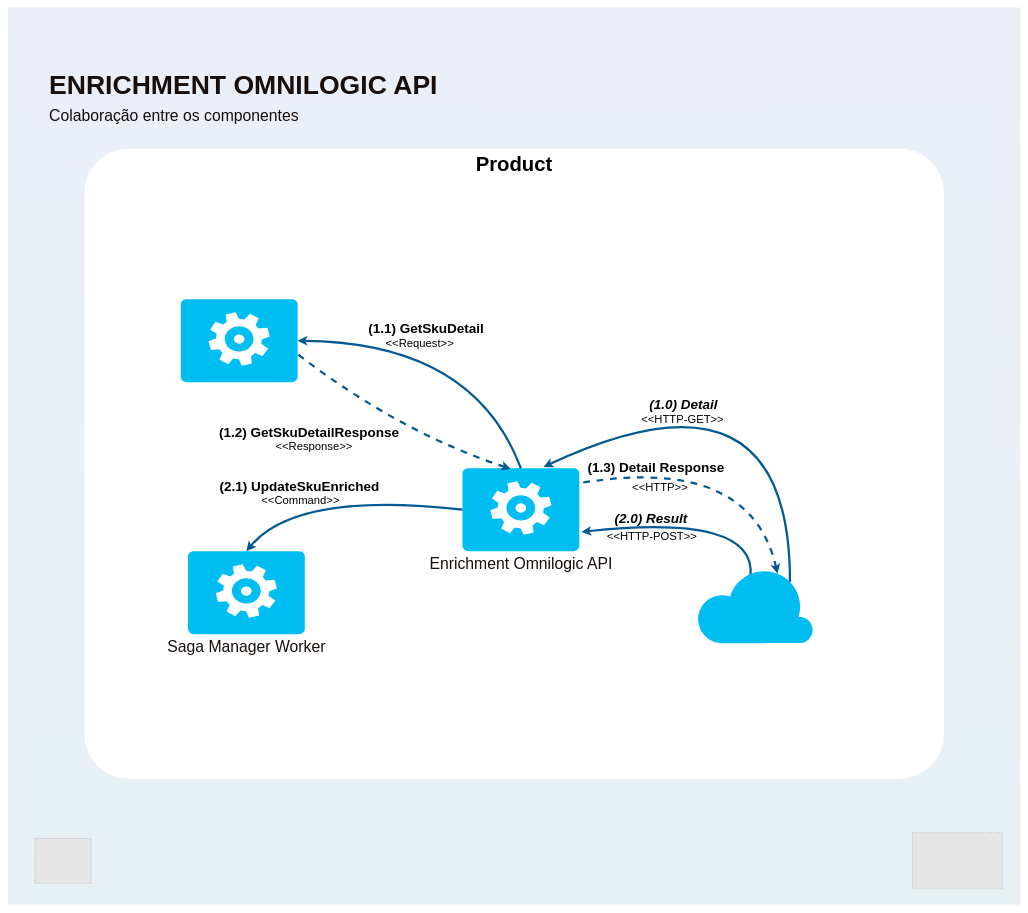
This 1028x913 diagram has some shape labels left out. Grey dashed boxes stand in for pictures. The shapes that lost their labels are listed below. From the top down, each one's box as (x1, y1, x2, y2) in pixels, then its label:
(180, 299, 297, 382): Changes Manager Worker
(696, 567, 813, 643): Omnilogic
